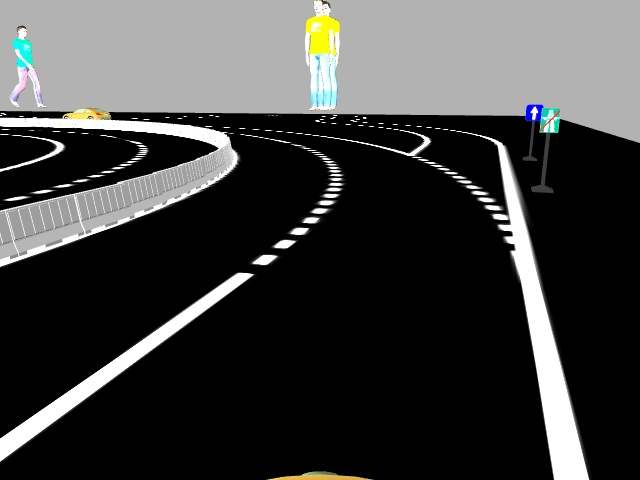HighwayExit: (542, 107, 558, 132)
OneWay: (525, 103, 541, 118)
